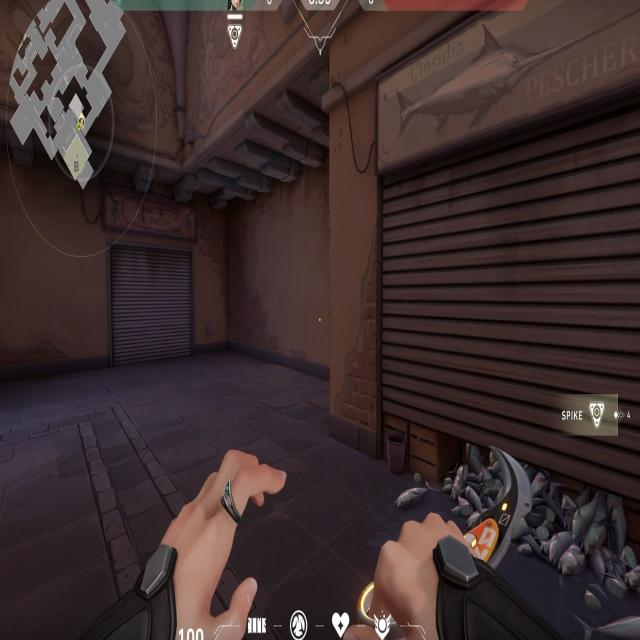B_Main_Corner: (314, 23, 620, 532)
